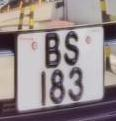1: (37, 70, 50, 108)
3: (66, 66, 86, 103)
8: (47, 69, 69, 106)
B: (41, 27, 63, 75)
S: (62, 27, 82, 70)
